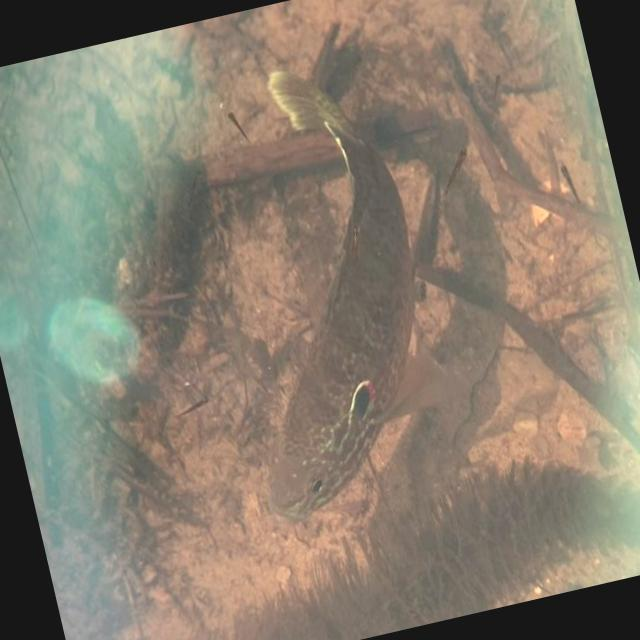Gunes Levregi: (165, 40, 482, 538)
